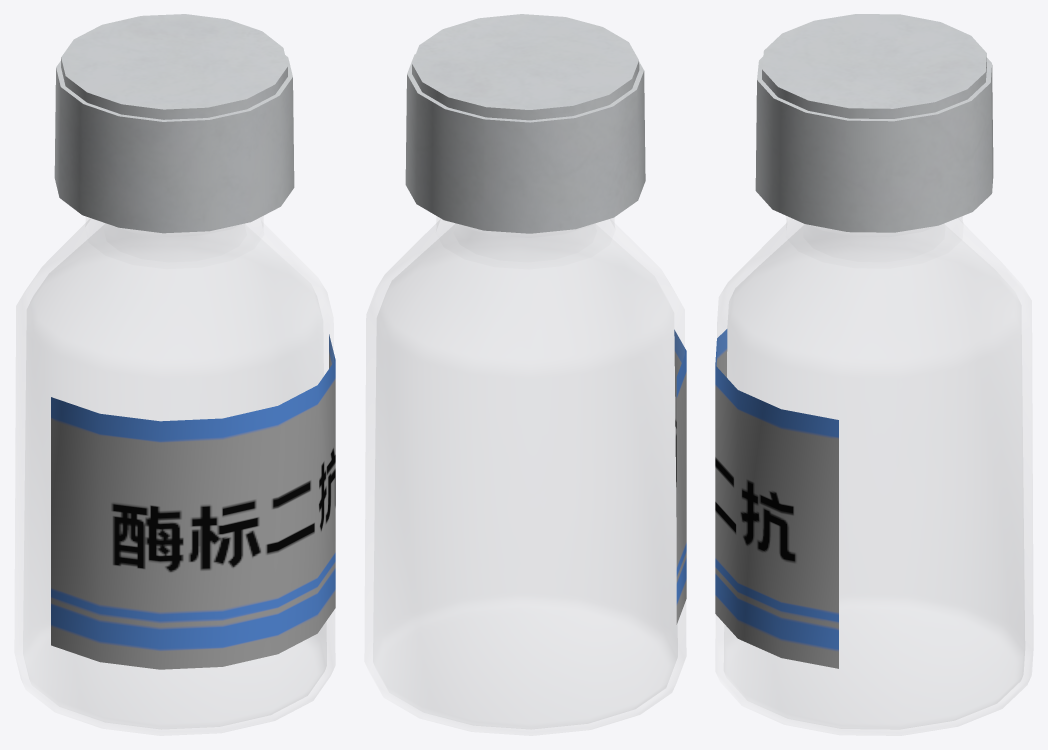
The model's file is 酶标二抗.glb.
3 renders of one model, left to right at view 1: azimuth 30°, elevation 25°; view 2: azimuth 150°, elevation 25°; view 3: azimuth 270°, elevation 25°, orthographic.
Parts seen in each view (by area): view 1: 1XPBS缓冲液.007, 1XPBS缓冲液.008, 1XPBS缓冲液.006, 酶标二抗; view 2: 1XPBS缓冲液.007, 1XPBS缓冲液.006, 酶标二抗, 1XPBS缓冲液.008; view 3: 1XPBS缓冲液.007, 1XPBS缓冲液.006, 1XPBS缓冲液.008, 酶标二抗.
Boxes of the visible parts, left/top/right/bottom form: 1XPBS缓冲液.007: left=23, top=224, right=326, bottom=728; 1XPBS缓冲液.008: left=51, top=334, right=335, bottom=669; 1XPBS缓冲液.006: left=54, top=14, right=294, bottom=233; 酶标二抗: left=15, top=216, right=334, bottom=735; 1XPBS缓冲液.007: left=373, top=224, right=677, bottom=728; 1XPBS缓冲液.006: left=405, top=14, right=645, bottom=233; 酶标二抗: left=365, top=217, right=685, bottom=735; 1XPBS缓冲液.008: left=674, top=329, right=686, bottom=624; 1XPBS缓冲液.007: left=724, top=224, right=1024, bottom=728; 1XPBS缓冲液.006: left=755, top=14, right=993, bottom=232; 1XPBS缓冲液.008: left=715, top=329, right=838, bottom=668; 酶标二抗: left=716, top=216, right=1032, bottom=735.
Size of the model in its own units: 0.0986 by 0.2098 by 0.0986.
Materials: 1 (1 with a texture image).
